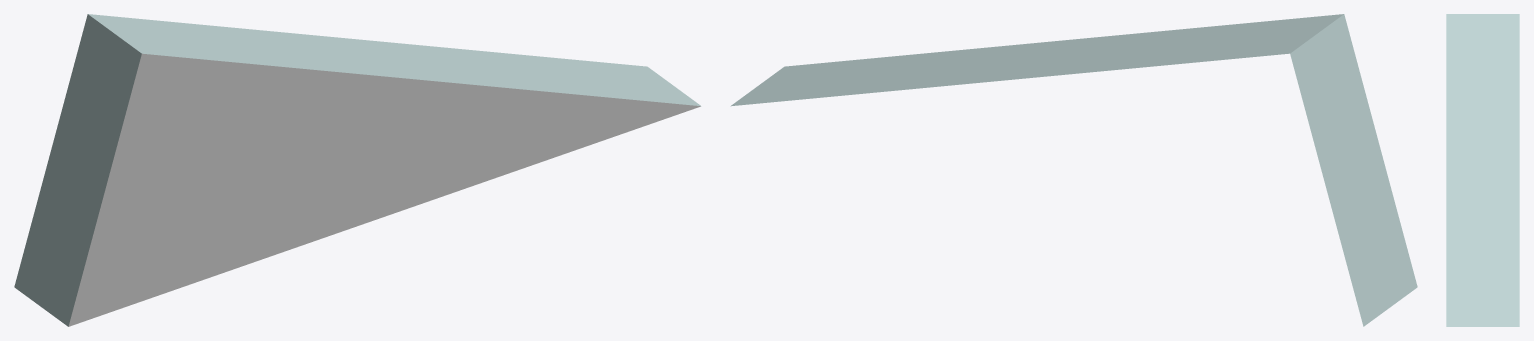
The picture shows the model from 3 angles, left to right: view 1: azimuth 30°, elevation 25°; view 2: azimuth 150°, elevation 25°; view 3: azimuth 270°, elevation 25°; orthographic projection. The views are drawn at different scales.
Parts seen in each view (by area): view 1: 0_2_2_1_3_0_2_3; view 2: 0_2_2_1_3_0_2_3; view 3: 0_2_2_1_3_0_2_3.
Boxes of the visible parts, box(x1,y1,x2,y2) form: 0_2_2_1_3_0_2_3: box(14, 14, 701, 326); 0_2_2_1_3_0_2_3: box(730, 14, 1417, 326); 0_2_2_1_3_0_2_3: box(1446, 14, 1519, 326).
Size of the model in its own units: 20.23 by 7.79 by 3.
